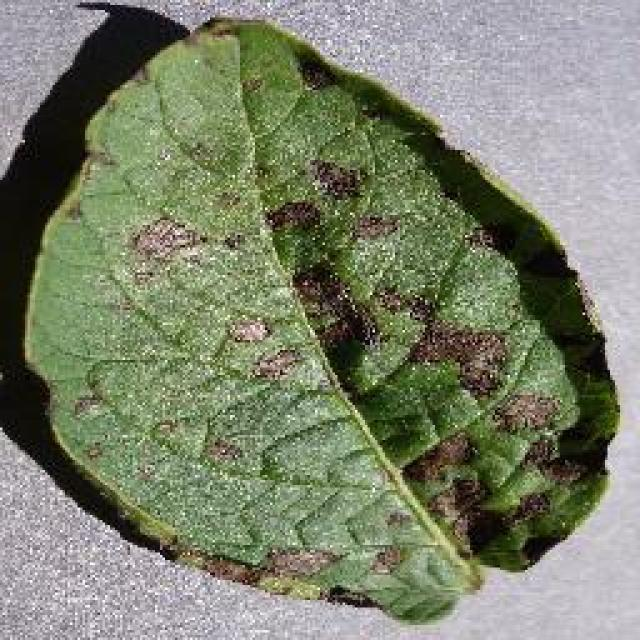Potato: (18, 10, 620, 625)
